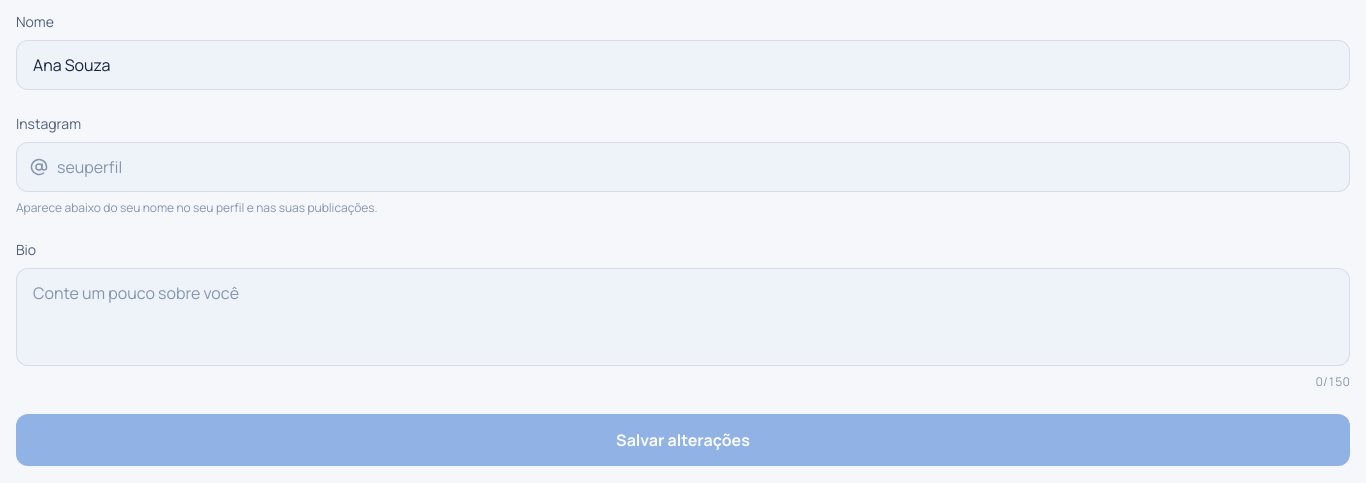
EditProfileForm — the Instagram @ (2026-10-09) › 8. a pasted profile link becomes the handle on blur
This screenshot has width=1366, height=483.
In the field labelled "Instagram": (683, 167) [16,142,1350,192], type "https://www.instagram.com/Ana.Souza/?igsh=MWx0aDZ1ZzQ="
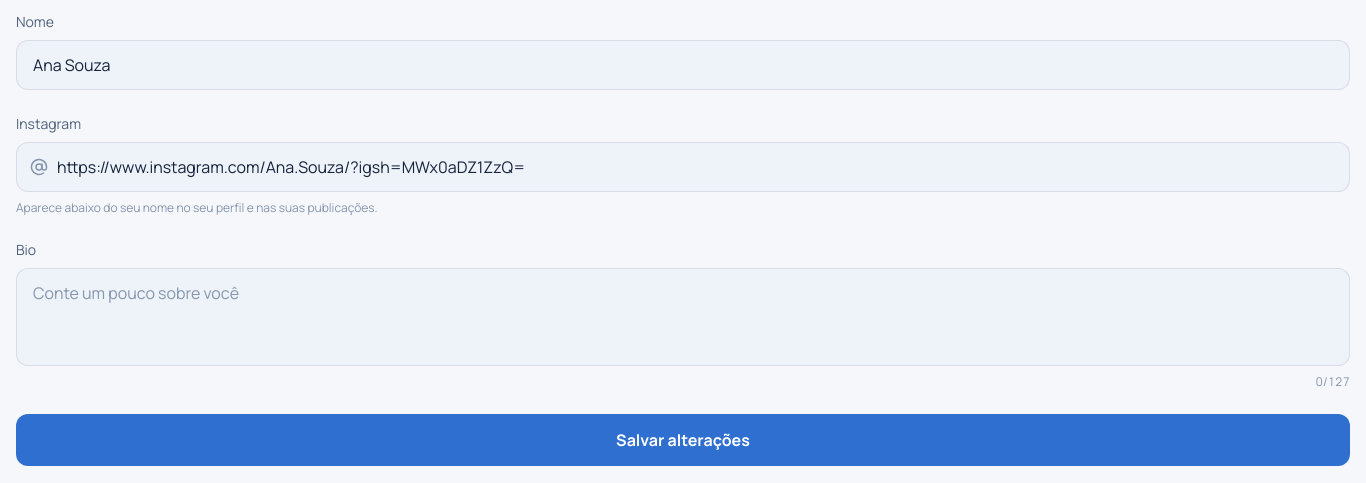
Leave the field labelled "Instagram", box [16,142,1350,192]
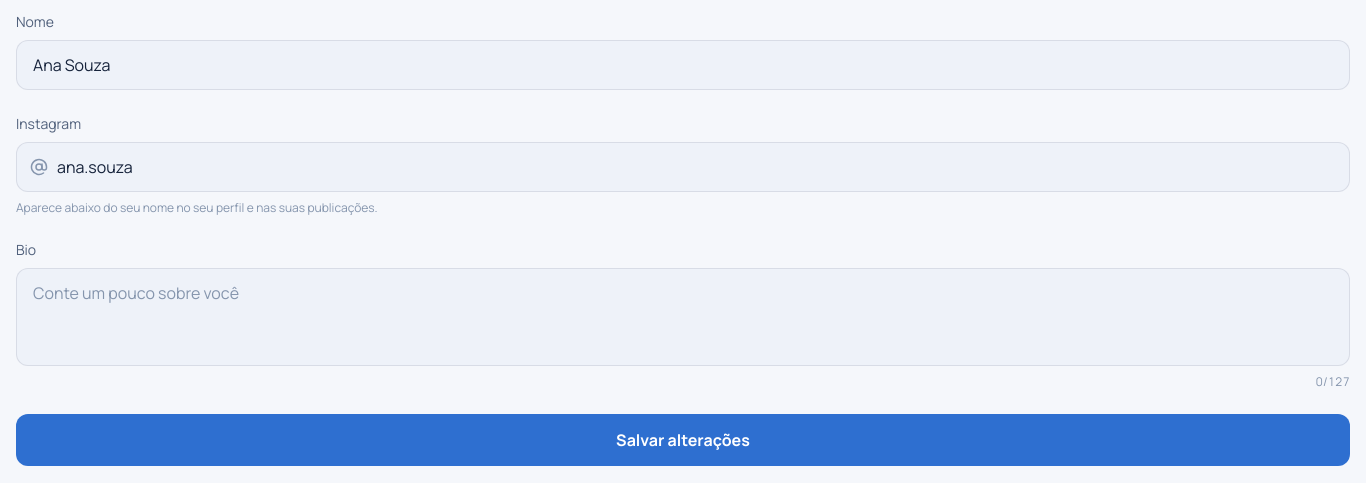
Now the field labelled "Instagram" holds "ana.souza", box [16,142,1350,192]
